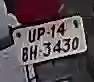0: (71, 37, 79, 51)
1: (50, 23, 56, 40)
3: (61, 38, 71, 54), (44, 41, 51, 60)
4: (53, 38, 62, 56), (57, 22, 66, 38)
B: (21, 45, 29, 64)
H: (29, 45, 39, 61)
P: (36, 26, 46, 44)
U: (26, 29, 36, 45)
